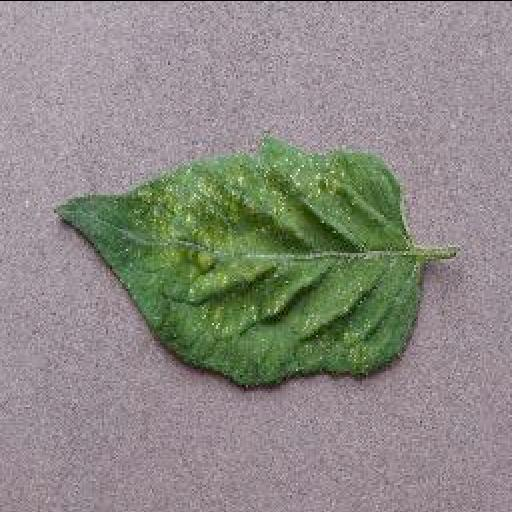disease_tomato: (51, 136, 421, 386)
